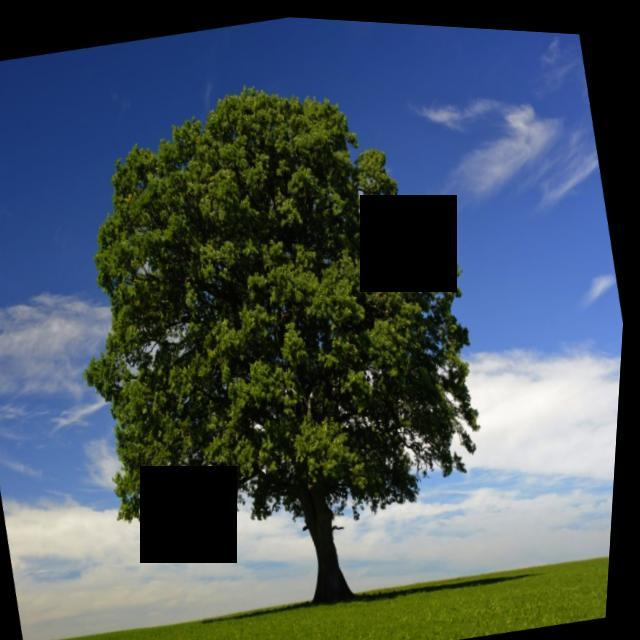Tree: (27, 40, 537, 640)
